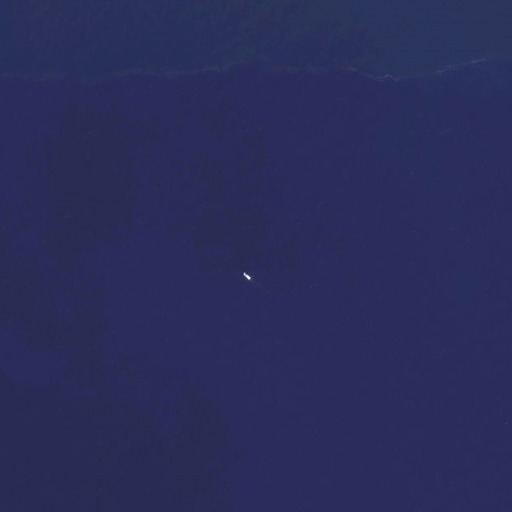ship: (240, 269, 254, 283)
